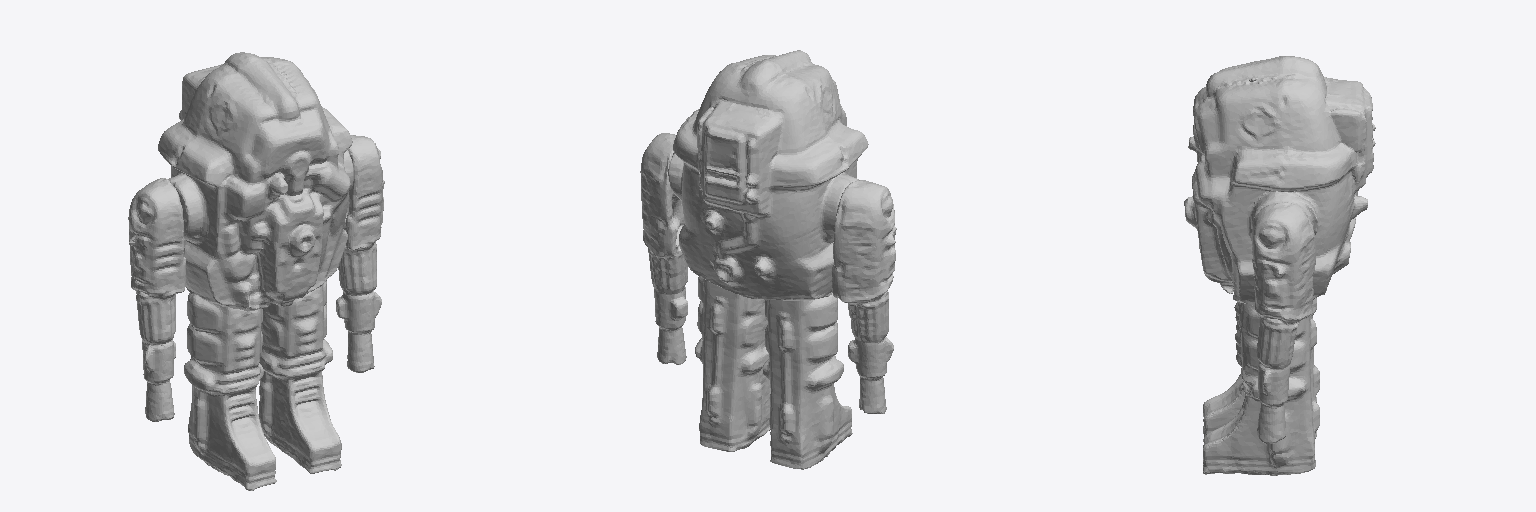
The model's file is snake.obj.
The picture shows the model from 3 angles: view 1: azimuth 30°, elevation 25°; view 2: azimuth 150°, elevation 25°; view 3: azimuth 270°, elevation 25°; orthographic projection.
Bounding box in the file's own units: 76.72 × 114 × 49.94.